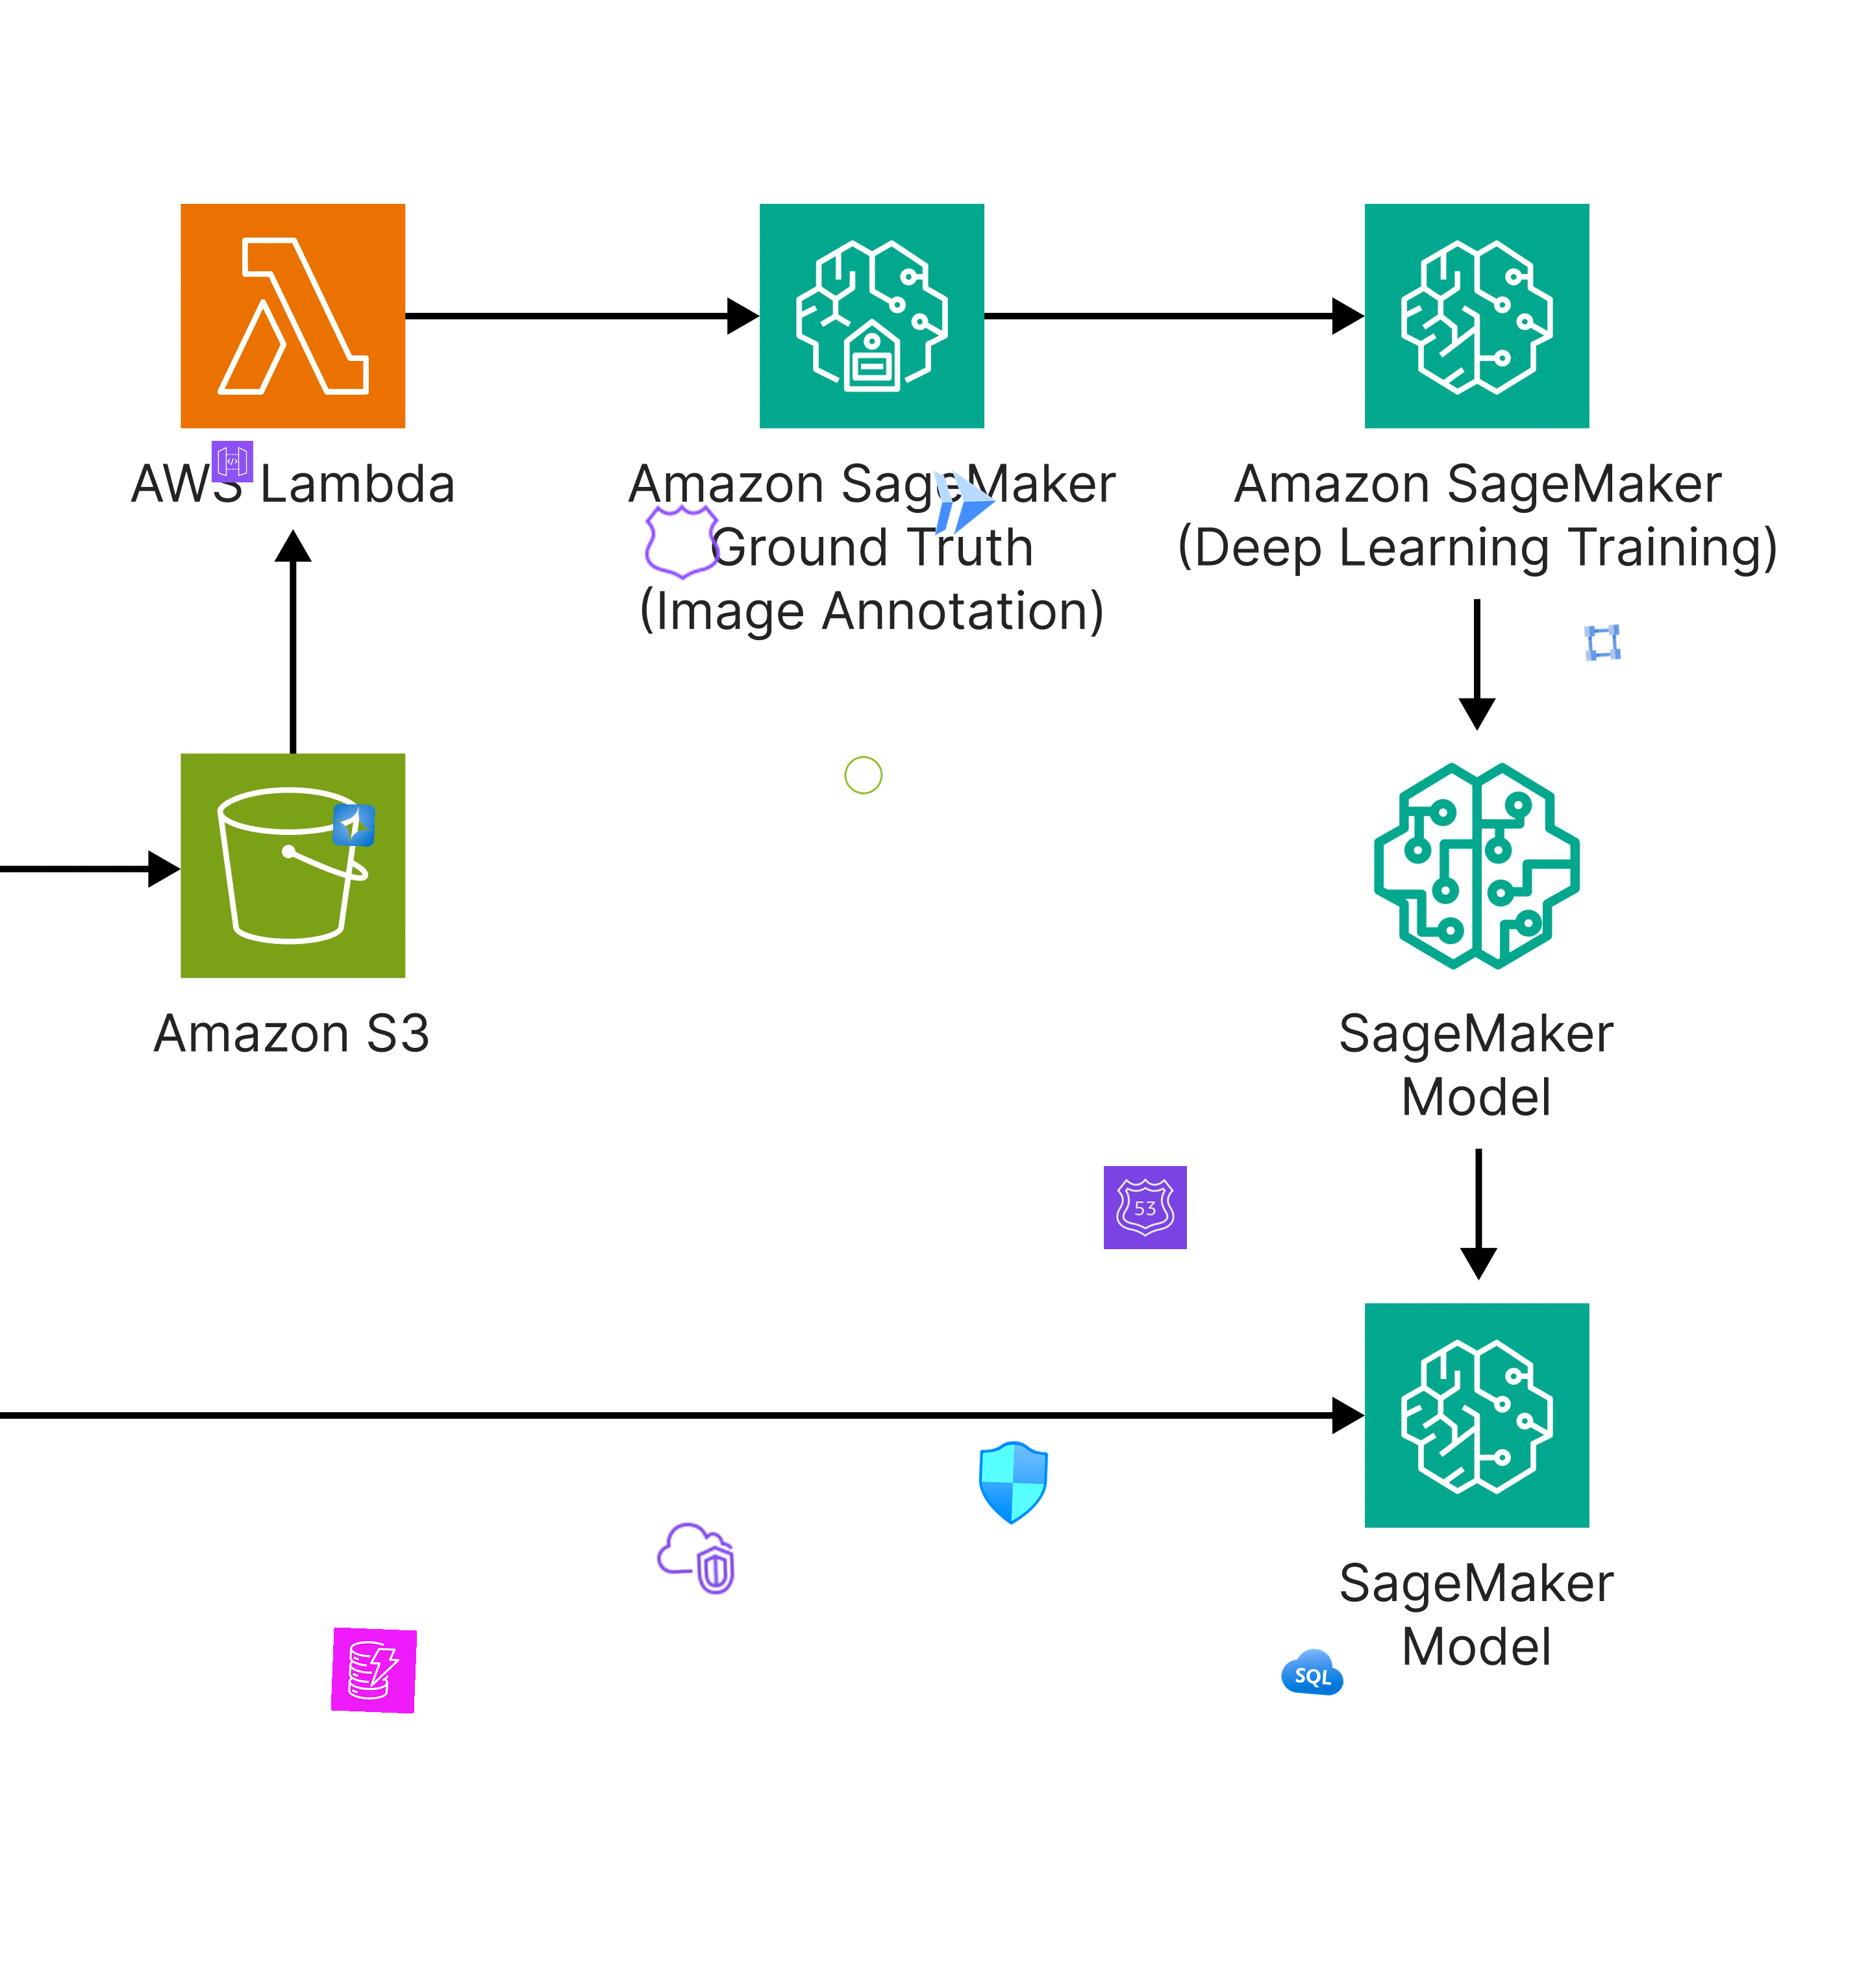aws_amazon_api_gateway: (211, 439, 253, 483)
aws_amazon_dynamodb: (330, 1628, 418, 1714)
aws_amazon_route_53: (1104, 1165, 1188, 1250)
aws_route_53_hosted_zone: (641, 499, 726, 584)
aws_simple_storage_service_object: (842, 754, 886, 796)
aws_vpc_virtual_private_cloud_vpc: (652, 1515, 738, 1603)
azure_network_security_groups: (970, 1440, 1056, 1526)
azure_openai: (332, 803, 376, 847)
azure_sql: (1279, 1638, 1346, 1707)
gcp_cloud_run: (921, 459, 1007, 545)
gcp_virtual_private_cloud: (1580, 620, 1624, 664)
